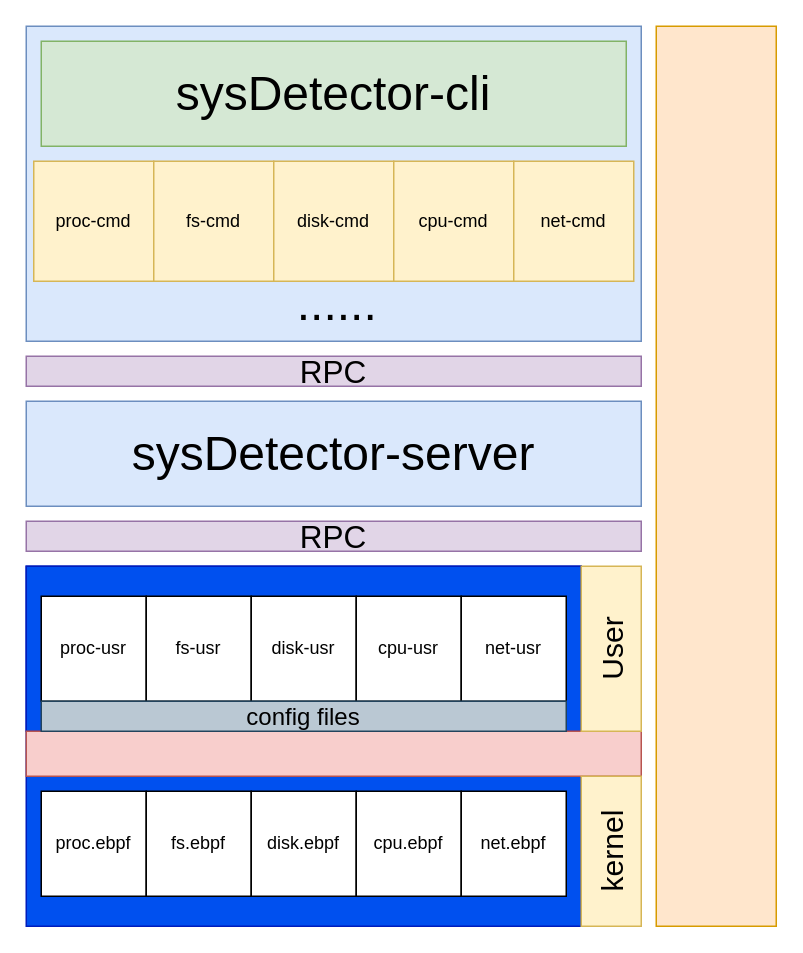
This 803x953 diagram has some shape labels left out. Here are the shapes that lost their labels. From the top down, the centre of each, then its label:
the point at 715,475: Selftest
the point at 333,753: ebpf(eg.)
